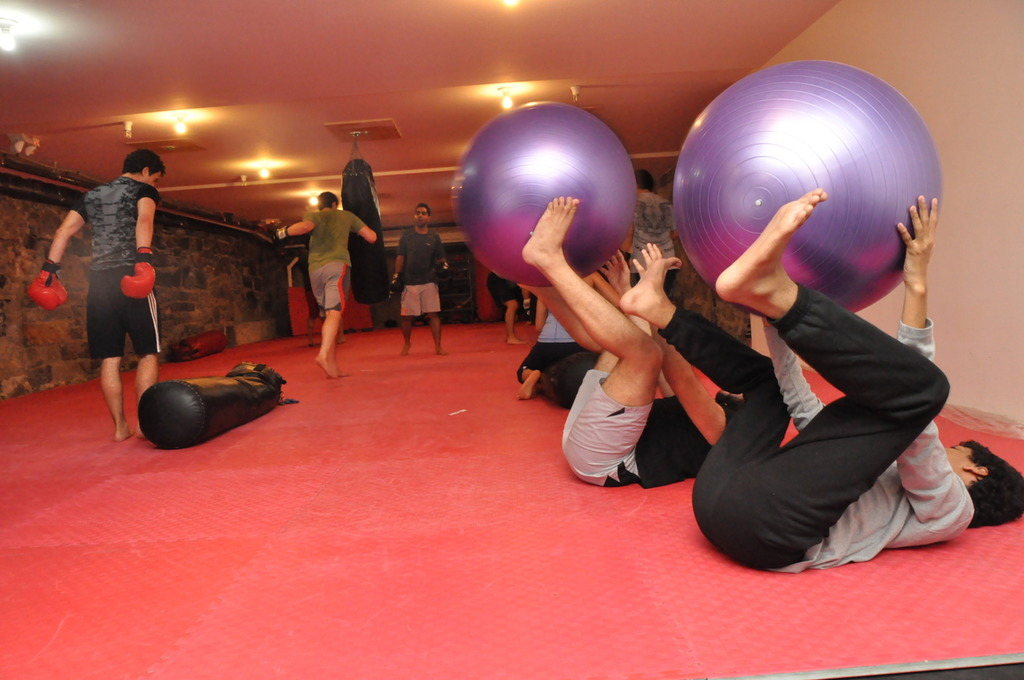Ball: (672, 58, 943, 315), (455, 99, 635, 289)
